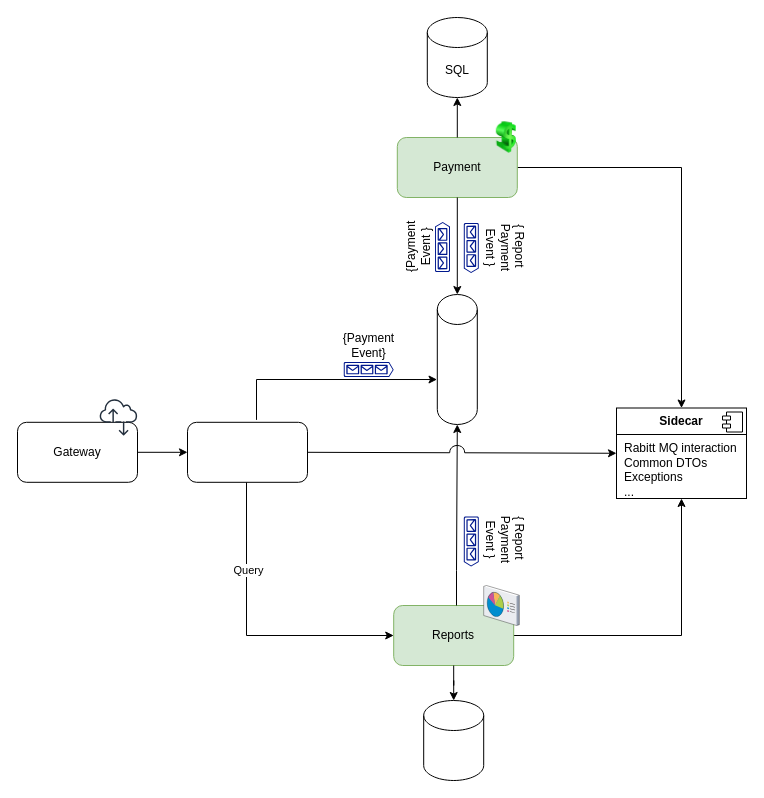
The diagram is 764 pixels wide and 798 high, and some of its shapes have lost their labels. Each missing label, with the box of its shape:
Bff: (186, 421, 308, 482)
MQ: (436, 294, 477, 424)
NoSQL: (423, 700, 484, 780)
